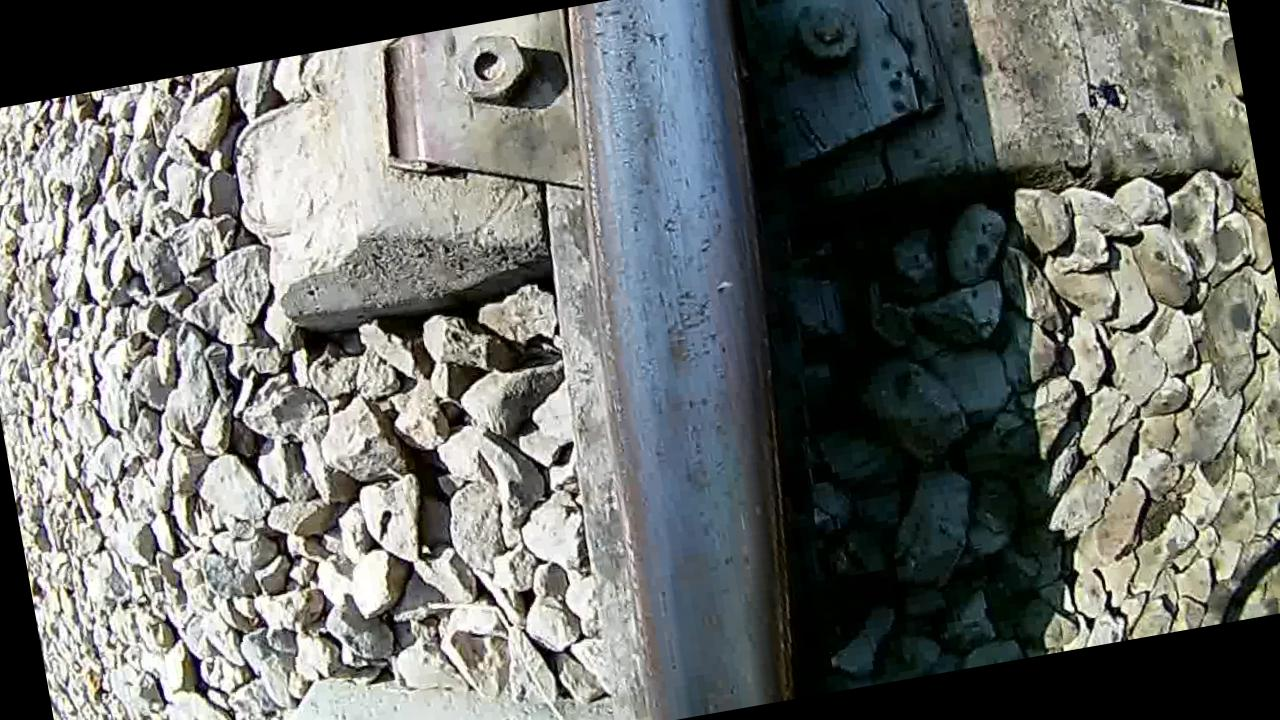crack: (542, 0, 840, 720)
